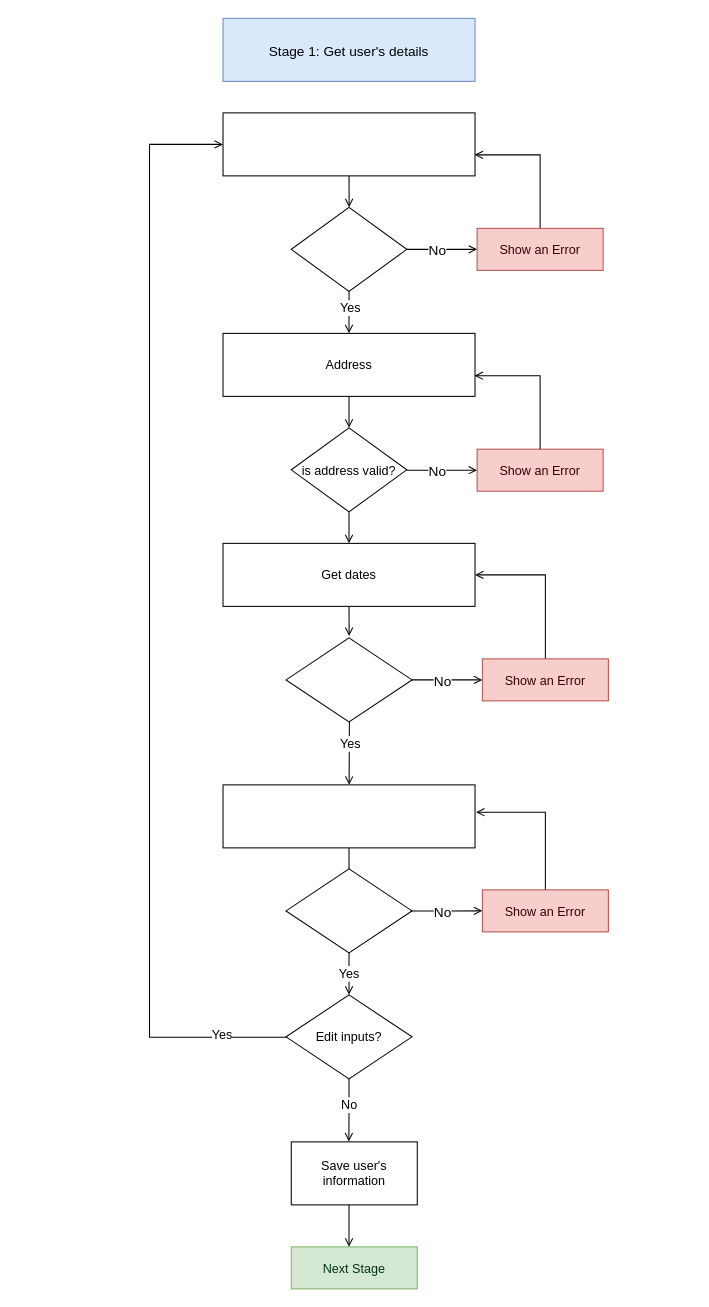
The diagram is 709 pixels wide and 1307 high, and some of its shapes have lost their labels. The shapes that lost their labels are listed below. From the top down, each one's centre as x and y in pixels, then its label:
the point at 348,144: Get First Name and Last Name
the point at 348,248: is name valid?
the point at 348,679: is date valid?
the point at 348,816: Get room type and nights spent
the point at 348,910: is input valid?
